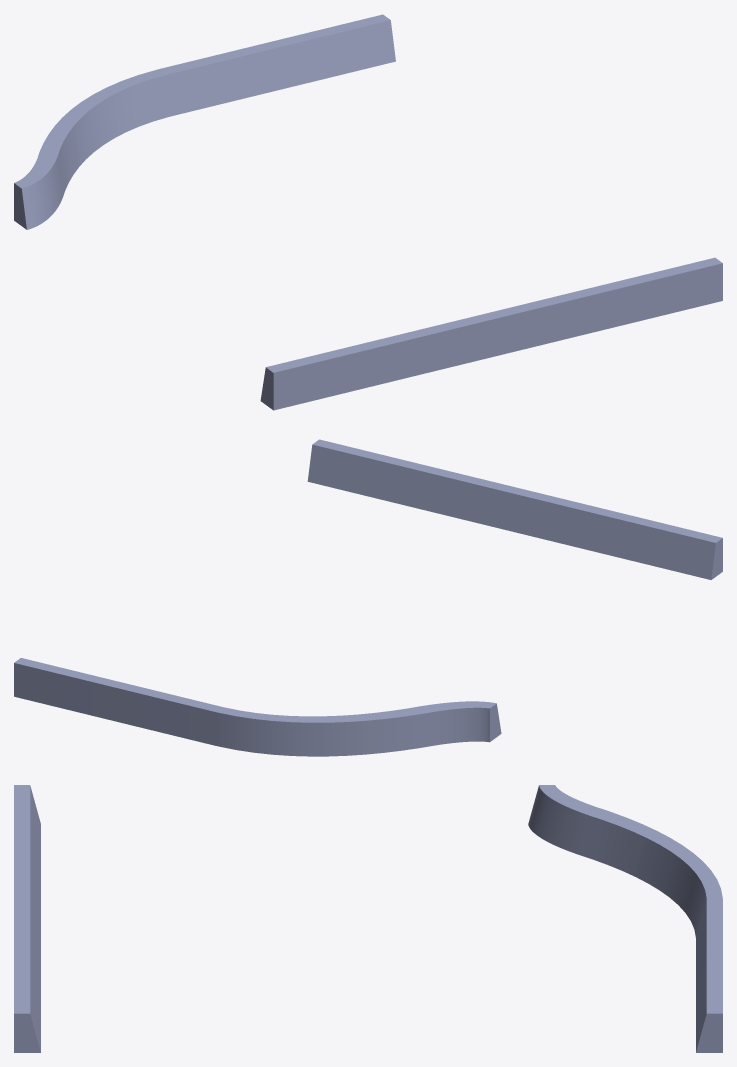
Rendered from road-side-exit-barrier.fbx.
The picture shows the model from 3 angles, top to bottom: view 1: azimuth 30°, elevation 25°; view 2: azimuth 150°, elevation 25°; view 3: azimuth 270°, elevation 25°; orthographic projection. The views are drawn at different scales.
Visible parts, largest first — view 1: road-side-exit-barrier; view 2: road-side-exit-barrier; view 3: road-side-exit-barrier.
Part boxes in pixels (<box>): road-side-exit-barrier: <box>14,14,722,410</box>; road-side-exit-barrier: <box>14,439,722,756</box>; road-side-exit-barrier: <box>14,785,722,1052</box>.
Size of the model in its own units: 100 by 8 by 131.
